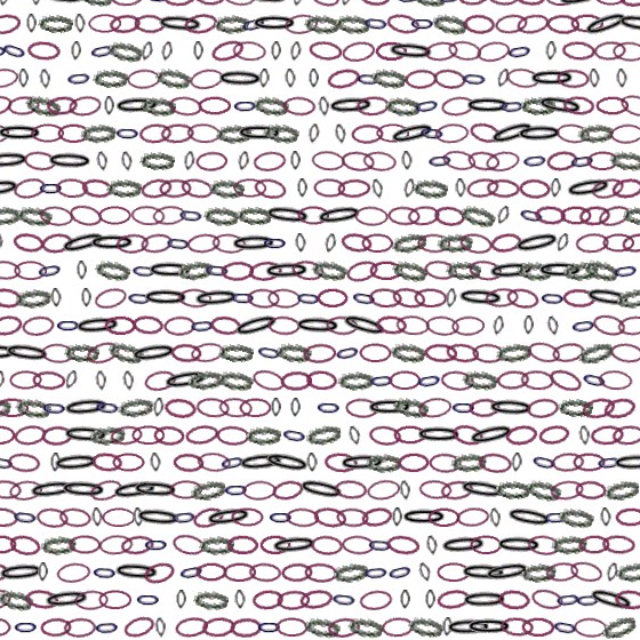chain: (557, 35, 602, 65), (475, 131, 520, 160), (251, 300, 296, 328), (345, 300, 390, 328), (561, 540, 606, 568), (100, 228, 144, 255), (388, 133, 432, 159), (497, 229, 541, 254), (457, 397, 501, 422), (308, 445, 352, 470), (535, 14, 579, 38), (4, 182, 48, 206), (278, 422, 322, 446), (490, 470, 534, 494), (517, 110, 561, 133), (542, 182, 586, 205), (324, 206, 368, 229), (559, 278, 603, 301), (190, 350, 234, 373), (449, 446, 493, 469), (227, 470, 271, 493), (471, 518, 515, 541), (198, 590, 242, 613), (573, 564, 608, 592), (330, 588, 365, 616), (587, 39, 631, 61), (145, 447, 189, 469), (25, 183, 68, 205), (51, 327, 94, 349), (162, 327, 205, 349), (4, 447, 47, 469), (83, 15, 126, 36), (279, 207, 322, 228), (103, 375, 146, 396), (256, 423, 299, 444), (73, 447, 116, 468), (86, 543, 129, 564), (553, 325, 587, 351), (531, 589, 565, 615), (185, 40, 228, 60), (387, 64, 430, 84), (475, 256, 518, 276), (217, 280, 260, 300), (113, 304, 156, 324), (94, 424, 137, 444), (166, 472, 209, 492), (285, 496, 328, 516), (433, 496, 476, 516), (46, 520, 89, 540), (368, 592, 411, 612), (527, 349, 560, 375), (262, 16, 305, 35), (33, 160, 76, 179), (448, 280, 491, 299), (147, 520, 190, 539), (468, 592, 511, 611), (450, 206, 484, 230), (214, 446, 248, 470), (576, 446, 610, 470), (316, 13, 348, 38), (232, 61, 264, 86), (590, 109, 622, 134), (123, 325, 155, 350), (155, 565, 187, 590), (148, 112, 190, 131), (335, 112, 377, 131), (103, 400, 145, 419), (101, 448, 143, 467), (164, 448, 206, 467), (9, 14, 43, 37), (390, 230, 424, 253), (558, 254, 592, 277), (142, 326, 176, 349), (315, 398, 349, 421), (565, 182, 597, 206), (350, 254, 382, 278), (130, 278, 162, 302), (268, 350, 300, 374), (126, 446, 158, 470), (70, 110, 103, 133), (238, 89, 280, 107), (500, 137, 542, 155), (89, 161, 131, 179), (250, 233, 292, 251), (279, 257, 321, 275), (306, 305, 348, 323), (475, 377, 517, 395), (345, 425, 387, 443), (584, 425, 626, 443), (482, 497, 524, 515), (451, 521, 493, 539), (452, 545, 494, 563), (438, 569, 480, 587), (571, 206, 602, 230), (216, 470, 247, 494), (173, 518, 204, 542), (59, 182, 91, 205), (108, 206, 140, 229), (566, 302, 598, 325), (509, 326, 541, 349), (198, 494, 230, 517), (546, 518, 578, 541), (29, 542, 61, 565), (426, 39, 459, 61), (142, 63, 175, 85), (9, 231, 42, 253), (391, 255, 424, 277), (587, 279, 620, 301), (508, 447, 541, 469), (339, 519, 372, 541), (46, 543, 79, 565), (400, 591, 433, 613), (268, 41, 310, 58), (511, 89, 553, 106), (455, 113, 497, 130), (45, 137, 87, 154), (255, 137, 297, 154), (126, 233, 168, 250), (177, 257, 219, 274), (518, 257, 560, 274), (173, 281, 215, 298), (24, 329, 66, 346), (369, 377, 411, 394), (412, 401, 454, 418), (399, 473, 441, 490), (456, 569, 498, 586), (10, 110, 41, 133), (30, 110, 61, 133), (458, 134, 489, 157), (443, 398, 474, 421), (512, 542, 543, 565), (214, 87, 246, 109), (473, 159, 505, 181), (116, 15, 149, 36), (184, 87, 217, 108), (131, 255, 164, 276), (203, 255, 236, 276), (482, 327, 515, 348), (212, 351, 245, 372), (151, 375, 184, 396), (392, 375, 425, 396), (587, 519, 620, 540), (405, 567, 438, 588), (502, 591, 535, 612), (37, 39, 68, 61), (386, 39, 417, 61), (500, 39, 531, 61), (347, 63, 378, 85), (465, 63, 496, 85), (334, 87, 365, 109), (206, 183, 237, 205), (270, 183, 301, 205), (450, 231, 481, 253), (391, 278, 422, 300), (491, 279, 522, 301), (557, 375, 588, 397), (56, 591, 87, 613), (321, 255, 353, 276), (171, 183, 201, 205), (174, 351, 204, 373), (576, 375, 606, 397), (286, 447, 316, 469), (56, 495, 86, 517), (242, 15, 273, 36), (473, 15, 504, 36), (496, 15, 527, 36), (209, 39, 240, 60), (318, 63, 349, 84), (440, 63, 471, 84), (35, 87, 66, 108), (491, 87, 522, 108), (108, 111, 139, 132), (435, 159, 466, 180), (456, 183, 487, 204), (303, 255, 334, 276), (419, 255, 450, 276), (458, 255, 489, 276), (10, 279, 41, 300), (215, 327, 246, 348), (531, 327, 562, 348), (414, 375, 445, 396), (60, 399, 91, 420), (210, 399, 241, 420), (369, 447, 400, 468), (322, 471, 353, 492), (70, 543, 101, 564), (310, 543, 341, 564), (430, 543, 461, 564), (201, 567, 232, 588), (288, 591, 319, 612), (408, 16, 440, 36), (63, 208, 95, 228), (541, 256, 573, 276), (62, 280, 94, 300), (239, 352, 271, 372), (62, 376, 94, 396), (10, 400, 42, 420), (127, 400, 159, 420), (537, 472, 569, 492), (84, 496, 116, 516), (504, 520, 536, 540), (315, 568, 347, 588), (353, 568, 385, 588), (526, 159, 556, 180), (583, 183, 613, 204), (59, 231, 89, 252), (84, 231, 114, 252), (346, 231, 376, 252), (477, 231, 507, 252), (592, 231, 622, 252), (39, 279, 69, 300), (40, 303, 70, 324), (490, 399, 520, 420), (519, 399, 549, 420), (364, 471, 394, 492), (315, 591, 345, 612), (48, 62, 75, 85), (297, 40, 328, 60), (481, 40, 512, 60), (10, 64, 41, 84), (427, 88, 458, 108), (434, 112, 465, 132), (83, 208, 114, 228), (234, 232, 265, 252), (67, 304, 98, 324), (438, 328, 469, 348), (582, 328, 613, 348), (56, 448, 87, 468), (386, 496, 417, 516), (98, 520, 129, 540), (373, 88, 405, 107), (270, 112, 302, 131), (119, 136, 151, 155), (279, 136, 311, 155), (554, 136, 586, 155), (582, 160, 614, 179), (35, 208, 67, 227), (431, 232, 463, 251), (290, 328, 322, 347), (390, 328, 422, 347), (453, 352, 485, 371), (27, 376, 59, 395), (443, 424, 475, 443), (531, 496, 563, 515), (420, 64, 450, 84), (196, 112, 226, 132), (535, 136, 565, 156), (69, 160, 99, 180), (270, 160, 300, 180), (347, 160, 377, 180), (366, 160, 396, 180), (457, 160, 487, 180), (119, 184, 149, 204), (11, 208, 41, 228), (171, 232, 201, 252), (212, 232, 242, 252), (266, 256, 296, 276), (421, 304, 451, 324), (589, 304, 619, 324), (434, 352, 464, 372), (509, 376, 539, 396), (371, 400, 401, 420), (55, 424, 85, 444), (467, 424, 497, 444), (434, 448, 464, 468), (530, 448, 560, 468), (154, 496, 184, 516), (510, 496, 540, 516), (363, 544, 393, 564), (335, 568, 365, 588), (107, 592, 137, 612), (583, 592, 613, 612), (212, 136, 243, 155), (429, 136, 460, 155), (163, 208, 194, 227), (572, 352, 603, 371), (135, 496, 166, 515), (590, 16, 619, 36), (144, 40, 173, 60), (428, 208, 457, 228), (232, 304, 261, 324), (11, 352, 40, 372), (192, 376, 221, 396), (145, 400, 174, 420), (80, 472, 109, 492), (100, 472, 129, 492), (344, 353, 376, 371), (258, 39, 284, 61), (145, 16, 175, 35), (191, 16, 221, 35), (72, 64, 102, 83), (252, 64, 282, 83), (540, 64, 570, 83), (360, 112, 390, 131), (170, 136, 200, 155), (189, 136, 219, 155), (321, 160, 351, 179), (97, 184, 127, 203), (182, 208, 212, 227), (552, 232, 582, 251), (38, 256, 68, 275), (371, 280, 401, 299), (473, 280, 503, 299), (395, 304, 425, 323), (483, 352, 513, 371), (504, 352, 534, 371), (220, 376, 250, 395), (240, 376, 270, 395), (565, 400, 595, 419), (584, 400, 614, 419), (221, 424, 251, 443), (332, 424, 362, 443), (531, 424, 561, 443), (341, 448, 371, 467), (415, 448, 445, 467), (36, 472, 66, 491), (448, 472, 478, 491), (575, 496, 605, 515), (526, 520, 556, 539), (225, 568, 255, 587), (382, 568, 412, 587), (486, 568, 516, 587), (124, 592, 154, 611), (358, 592, 388, 611), (456, 592, 486, 611), (558, 592, 588, 611), (236, 41, 267, 59), (315, 41, 346, 59), (342, 41, 373, 59), (172, 113, 203, 131), (386, 113, 417, 131), (238, 137, 269, 155), (232, 185, 263, 203), (410, 185, 441, 203), (227, 209, 258, 227), (501, 257, 532, 275), (264, 401, 295, 419), (369, 425, 400, 443), (223, 497, 254, 515), (10, 545, 41, 563), (218, 545, 249, 563), (218, 16, 247, 35), (449, 16, 478, 35), (11, 40, 40, 59), (568, 64, 597, 83), (55, 112, 84, 131), (89, 112, 118, 131), (541, 112, 570, 131), (405, 208, 434, 227), (516, 208, 545, 227), (555, 208, 584, 227), (164, 304, 193, 323), (377, 304, 406, 323), (316, 352, 345, 371), (128, 424, 157, 443), (39, 448, 68, 467), (269, 544, 298, 563), (484, 544, 513, 563), (586, 544, 615, 563), (501, 207, 527, 228), (340, 327, 366, 348), (556, 351, 582, 372), (512, 423, 538, 444), (386, 519, 412, 540), (585, 65, 615, 83), (296, 113, 326, 131), (11, 161, 41, 179), (474, 185, 504, 203), (359, 209, 389, 227), (150, 233, 180, 251), (261, 449, 291, 467), (11, 497, 41, 515), (320, 497, 350, 515), (266, 521, 296, 539), (114, 545, 144, 563), (104, 569, 134, 587), (82, 41, 113, 58), (130, 89, 161, 106), (504, 113, 535, 130), (171, 161, 202, 178), (142, 185, 173, 202), (256, 209, 287, 226), (594, 209, 625, 226), (439, 257, 470, 274), (105, 329, 136, 346), (240, 329, 271, 346), (537, 377, 568, 394), (482, 449, 513, 466), (126, 63, 151, 84), (410, 111, 435, 132), (80, 255, 105, 276), (272, 327, 297, 348), (240, 423, 265, 444), (204, 519, 229, 540), (363, 17, 392, 35), (454, 41, 483, 59), (527, 41, 556, 59), (160, 89, 189, 107), (403, 89, 432, 107), (536, 89, 565, 107), (28, 137, 57, 155), (356, 137, 385, 155), (583, 137, 612, 155), (188, 185, 217, 203), (344, 185, 373, 203), (388, 209, 417, 227), (414, 233, 443, 251), (242, 257, 271, 275), (205, 281, 234, 299), (265, 281, 294, 299), (283, 281, 312, 299), (541, 281, 570, 299), (11, 305, 40, 323), (283, 305, 312, 323), (444, 305, 473, 323), (85, 329, 114, 347), (314, 329, 343, 347), (420, 329, 449, 347), (77, 353, 106, 371), (351, 377, 380, 395), (238, 401, 267, 419), (424, 425, 453, 443), (299, 473, 328, 491), (343, 473, 372, 491), (348, 497, 377, 515), (315, 521, 344, 539), (291, 545, 320, 563), (551, 569, 580, 587), (11, 593, 40, 611), (233, 593, 262, 611), (138, 473, 168, 490), (166, 41, 194, 59), (220, 161, 248, 179), (503, 185, 531, 203), (192, 305, 220, 323), (334, 305, 362, 323), (198, 329, 226, 347), (462, 329, 490, 347), (294, 353, 322, 371), (459, 377, 487, 395), (85, 401, 113, 419), (183, 401, 211, 419), (200, 425, 228, 443), (552, 449, 580, 467), (12, 473, 40, 491), (295, 521, 323, 539), (84, 569, 112, 587), (250, 569, 278, 587), (491, 64, 516, 84), (546, 160, 571, 180), (584, 256, 609, 276), (355, 280, 380, 300), (547, 304, 572, 324), (412, 352, 437, 372), (294, 400, 319, 420), (38, 424, 63, 444), (13, 520, 38, 540), (531, 568, 556, 588), (569, 17, 598, 34), (126, 41, 155, 58), (548, 41, 577, 58), (222, 113, 251, 130), (570, 113, 599, 130), (76, 137, 105, 154), (99, 137, 128, 154), (378, 137, 407, 154), (253, 185, 282, 202), (135, 209, 164, 226), (61, 257, 90, 274), (372, 257, 401, 274), (411, 281, 440, 298), (363, 329, 392, 346), (57, 353, 86, 370), (45, 377, 74, 394), (258, 377, 287, 394), (34, 401, 63, 418), (164, 401, 193, 418), (393, 401, 422, 418), (147, 425, 176, 442), (550, 425, 579, 442), (197, 449, 226, 466), (251, 473, 280, 490), (423, 473, 452, 490), (244, 521, 273, 538), (431, 521, 460, 538), (135, 545, 164, 562), (30, 569, 59, 586), (290, 569, 319, 586), (505, 569, 534, 586), (161, 593, 190, 610), (525, 17, 553, 34), (377, 65, 405, 82), (562, 161, 590, 178), (323, 185, 351, 202), (309, 209, 337, 226), (539, 209, 567, 226), (365, 233, 393, 250), (576, 233, 604, 250), (326, 281, 354, 298), (140, 305, 168, 322), (389, 353, 417, 370), (397, 425, 425, 442), (587, 473, 615, 490), (36, 497, 64, 514), (109, 497, 137, 514), (247, 497, 275, 514), (276, 497, 304, 514), (460, 497, 488, 514), (555, 497, 583, 514), (29, 521, 57, 538), (220, 521, 248, 538), (262, 593, 290, 610), (190, 592, 215, 611), (174, 16, 198, 35), (366, 40, 390, 59), (106, 88, 130, 107), (415, 136, 439, 155), (422, 160, 446, 179), (505, 160, 529, 179), (204, 208, 228, 227), (227, 256, 251, 275), (131, 376, 155, 395), (570, 424, 594, 443), (59, 472, 83, 491), (198, 472, 222, 491), (338, 544, 362, 563), (534, 544, 558, 563), (394, 17, 418, 35), (430, 17, 454, 35), (452, 89, 476, 107), (485, 113, 509, 131), (193, 233, 217, 251), (163, 257, 187, 275), (159, 281, 183, 299), (307, 281, 331, 299), (214, 305, 238, 323), (371, 353, 395, 371), (366, 521, 390, 539), (14, 569, 38, 587), (85, 593, 109, 611), (360, 89, 383, 107), (521, 281, 544, 299), (85, 377, 108, 395), (370, 497, 393, 515), (129, 521, 152, 539), (552, 545, 575, 563), (131, 569, 154, 587), (407, 41, 430, 58), (33, 65, 56, 82), (14, 89, 37, 106), (252, 113, 275, 130), (14, 137, 37, 154), (149, 137, 172, 154), (82, 185, 105, 202), (278, 233, 301, 250), (250, 281, 273, 298), (97, 305, 120, 322), (14, 377, 37, 394), (325, 377, 348, 394), (443, 377, 466, 394), (244, 449, 267, 466), (283, 473, 306, 490), (524, 473, 547, 490), (174, 497, 197, 514), (167, 545, 190, 562), (60, 569, 83, 586), (273, 569, 296, 586), (36, 593, 59, 610), (482, 88, 496, 107), (482, 208, 496, 227), (534, 232, 548, 251), (104, 352, 118, 371), (414, 520, 428, 539), (171, 65, 184, 83), (373, 185, 386, 203), (353, 401, 366, 419), (578, 521, 591, 539), (346, 17, 358, 35), (189, 65, 201, 83), (341, 137, 353, 155), (154, 161, 166, 179), (256, 161, 268, 179), (401, 185, 413, 203), (332, 233, 344, 251), (479, 305, 491, 323), (527, 305, 539, 323), (42, 353, 54, 371), (421, 497, 433, 515), (47, 17, 58, 35), (304, 17, 315, 35), (302, 65, 313, 83), (83, 89, 94, 107), (327, 113, 338, 131), (318, 137, 329, 155), (133, 161, 144, 179), (209, 161, 220, 179), (41, 233, 52, 251), (20, 257, 31, 275), (438, 281, 449, 299), (132, 353, 143, 371), (156, 353, 167, 371), (555, 401, 566, 419), (398, 449, 409, 467), (477, 473, 488, 491), (184, 569, 195, 587), (438, 593, 449, 611), (182, 377, 193, 394), (114, 41, 124, 58), (526, 65, 536, 82), (275, 89, 285, 106), (298, 89, 308, 106), (564, 89, 574, 106), (588, 89, 598, 106), (400, 161, 410, 178), (447, 185, 457, 202), (530, 185, 540, 202), (307, 233, 317, 250), (93, 281, 103, 298), (21, 329, 31, 346), (180, 425, 190, 442), (317, 425, 327, 442), (496, 425, 506, 442), (129, 473, 139, 490), (165, 473, 175, 490), (574, 473, 584, 490), (254, 545, 264, 562), (152, 593, 162, 610), (76, 17, 85, 34), (72, 41, 81, 58), (111, 65, 120, 82), (218, 65, 227, 82), (286, 65, 295, 82), (65, 89, 74, 106), (319, 89, 328, 106), (140, 113, 149, 130), (303, 161, 312, 178), (309, 185, 318, 202), (116, 257, 125, 274), (120, 281, 129, 298), (507, 305, 516, 322), (286, 377, 295, 394), (303, 377, 312, 394), (21, 425, 30, 442), (93, 425, 102, 442), (392, 473, 401, 490), (82, 521, 91, 538), (203, 545, 212, 562), (399, 545, 408, 562), (421, 545, 430, 562), (436, 569, 445, 586)
noise: (8, 383, 28, 403), (0, 17, 20, 37), (617, 289, 637, 309)
